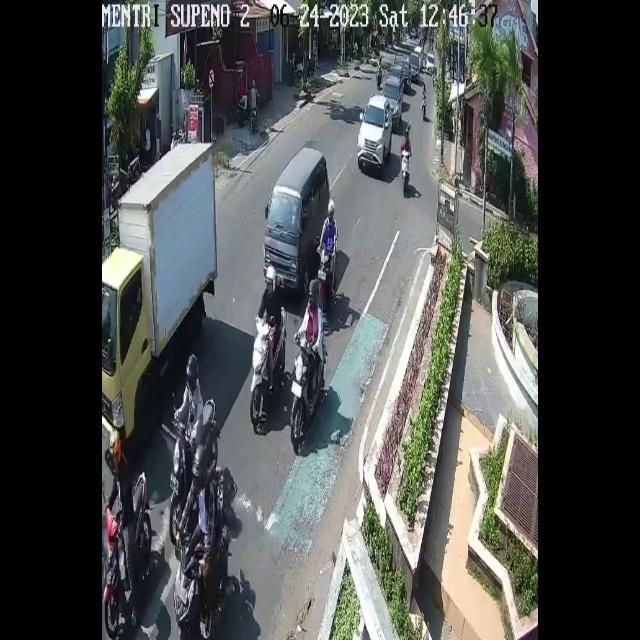bus: (102, 472, 154, 640), (169, 397, 218, 543), (175, 522, 227, 640), (290, 330, 326, 449), (250, 308, 285, 429), (316, 248, 339, 296), (400, 148, 411, 197), (421, 93, 428, 121)
motorcycle: (264, 148, 331, 297), (356, 95, 393, 173), (383, 76, 402, 130)
truck: (103, 142, 217, 442)
